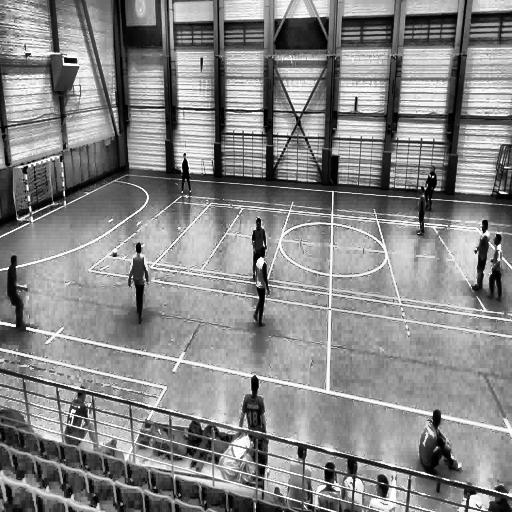ball: (112, 246, 118, 262)
player: (240, 375, 267, 468), (128, 242, 149, 324), (471, 218, 491, 294), (7, 256, 27, 330), (254, 244, 270, 328), (487, 232, 505, 305), (250, 214, 268, 283), (417, 187, 427, 238), (424, 168, 436, 210), (181, 153, 192, 194)
